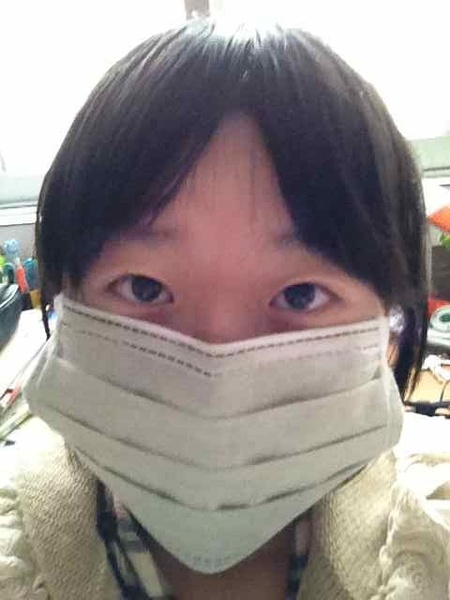face_mask: (70, 99, 395, 584)
